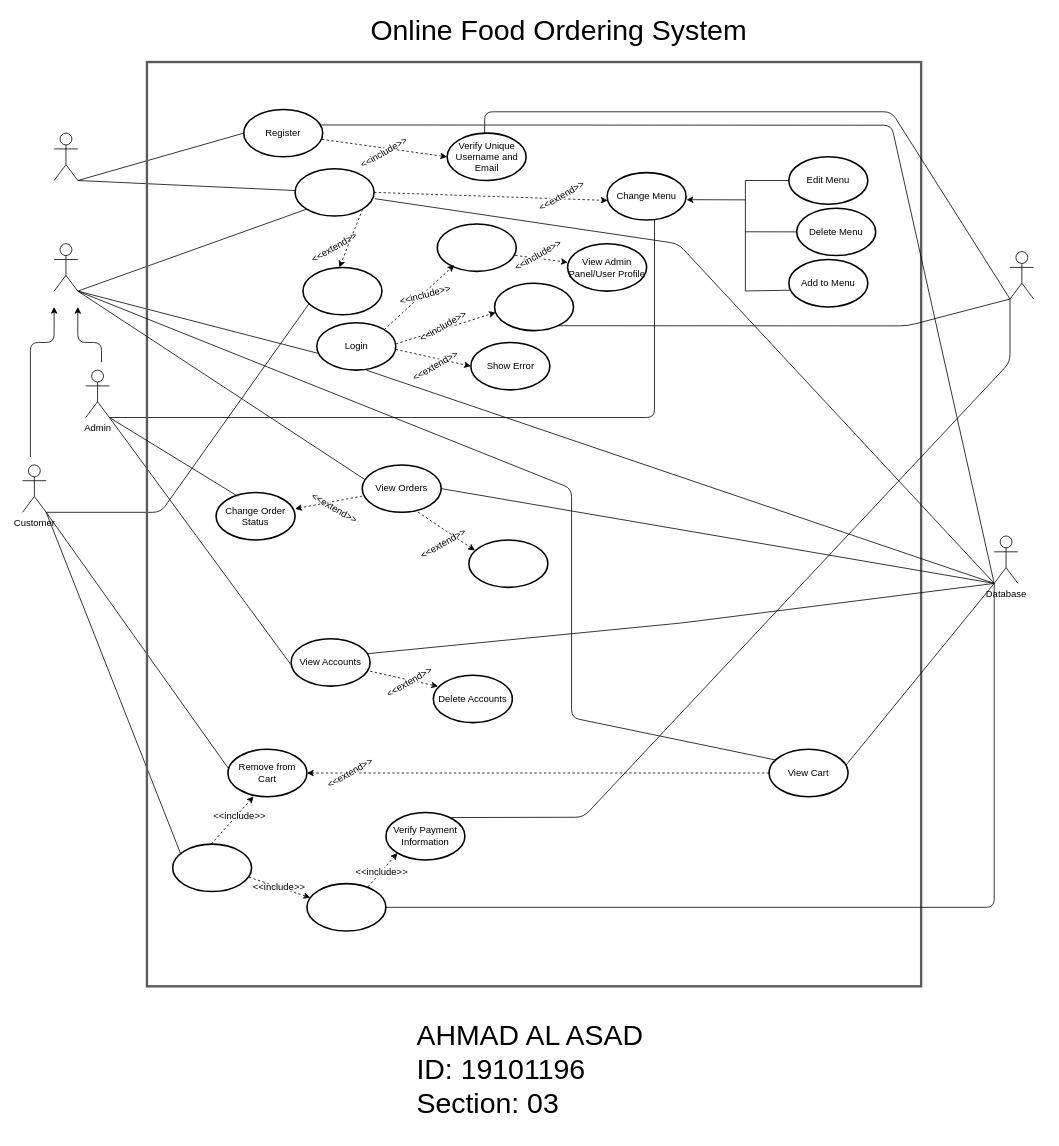
The diagram is 1059 pixels wide and 1146 high, and some of its shapes have lost their labels. The shapes that lost their labels are listed below. From the top down, each one's box as (x1, y1, x2, y2) in pixels, then its label:
(53, 132, 78, 181): Guest
(294, 167, 374, 216): View Food Menu
(53, 243, 78, 291): User
(436, 223, 517, 272): Check User Type
(302, 266, 382, 315): Add to Cart
(1009, 251, 1034, 299): Verification
(493, 282, 574, 331): Verify Password
(468, 539, 548, 588): Cancel Orders
(171, 843, 252, 892): Checkout
(306, 882, 386, 931): Set Order
